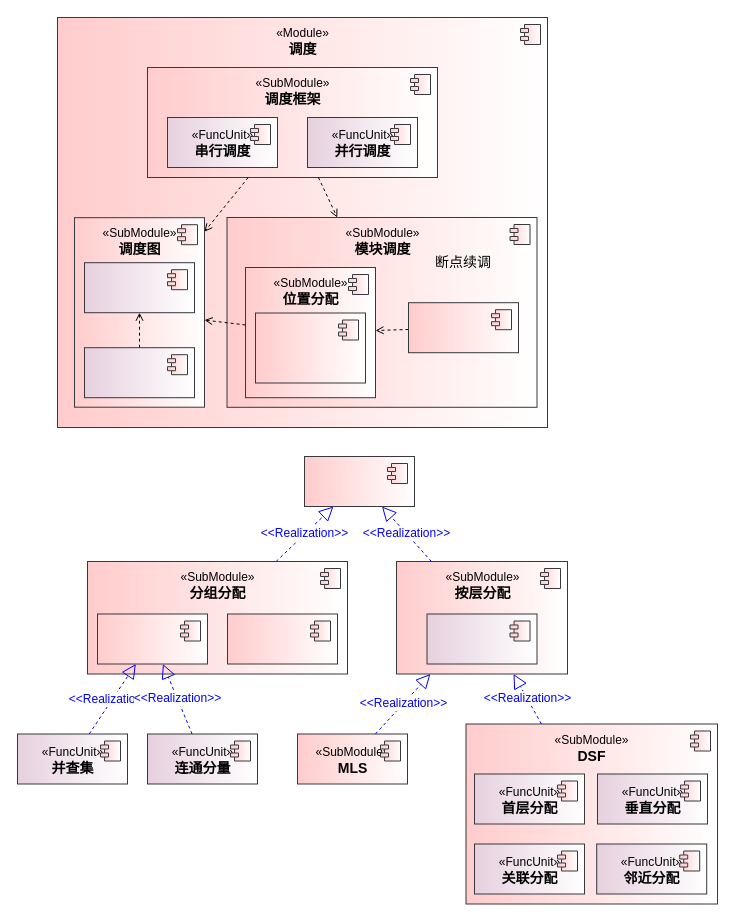
The diagram is 735 pixels wide and 922 high, and some of its shapes have lost their labels. The centre of each missing label's shape, as x and y in pixels:
«FuncUnit» 分层分配框架: point 481,638
«FuncUnit» 调度图构建: point 139,287
«FuncUnit» 调度排序: point 139,372
«SubModule» 分组策略: point 152,638
«SubModule» 分配器: point 282,638
«SubModule» 分配算法: point 359,481
«SubModule» 分配算法库: point 310,347
«SubModule» 路由布线: point 463,327
